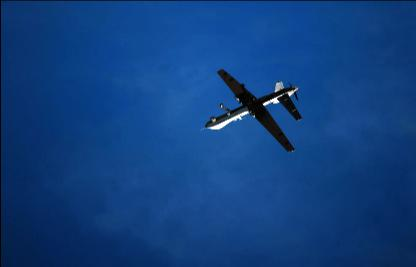MQ9: (199, 68, 300, 152)
